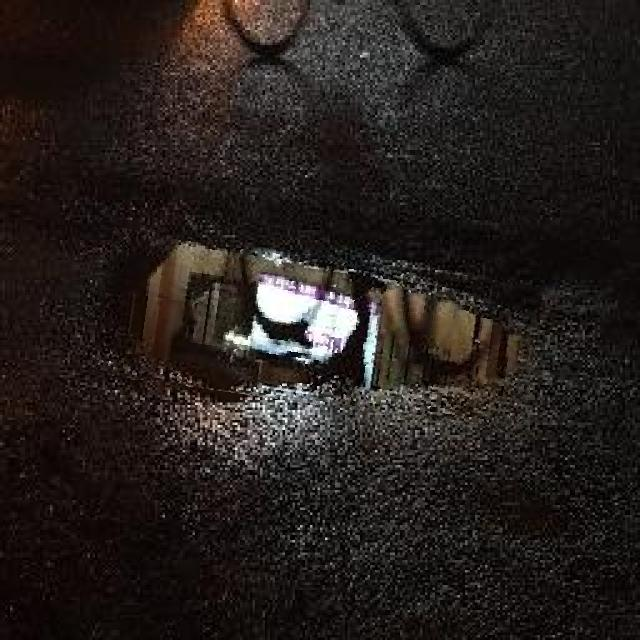puddle: (98, 243, 540, 419)
